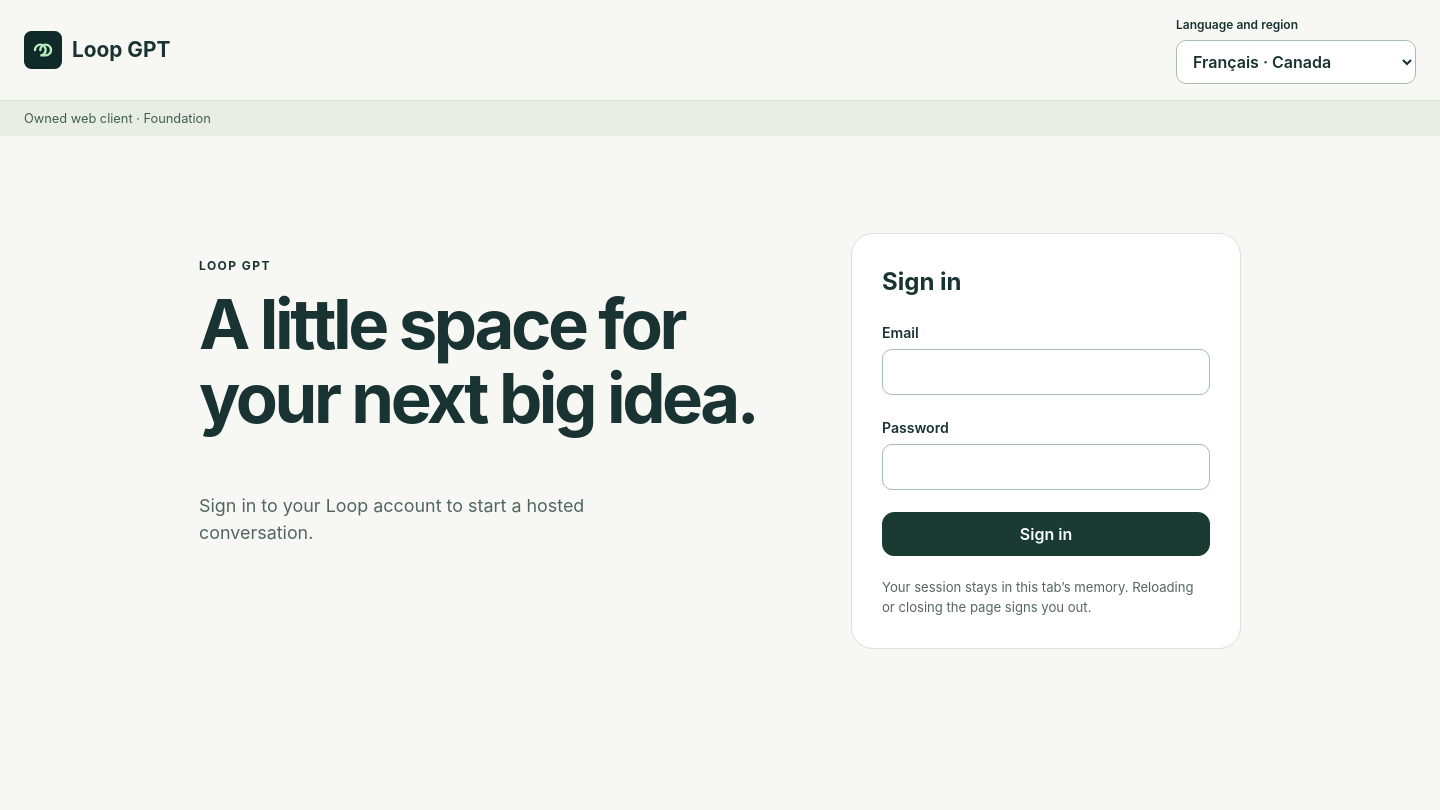
Test: owned client lifecycle › changes all interface copy and document language to French
Select "Français · Canada" in the dropdown labelled "Language and region" at (1296, 62), box [1176,40,1416,84]
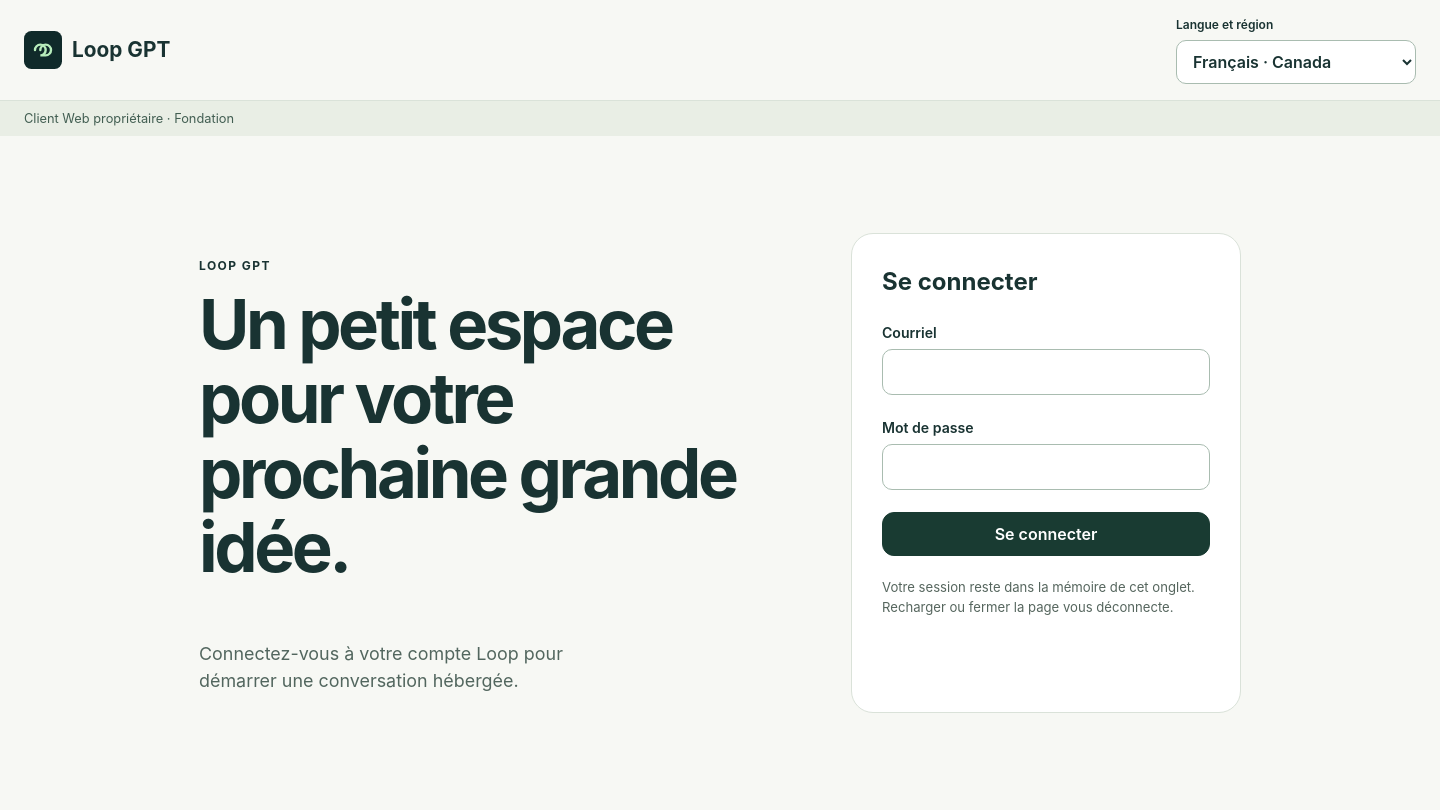
Expected: the text "Se connecter" is shown, [882,267,1038,296]
